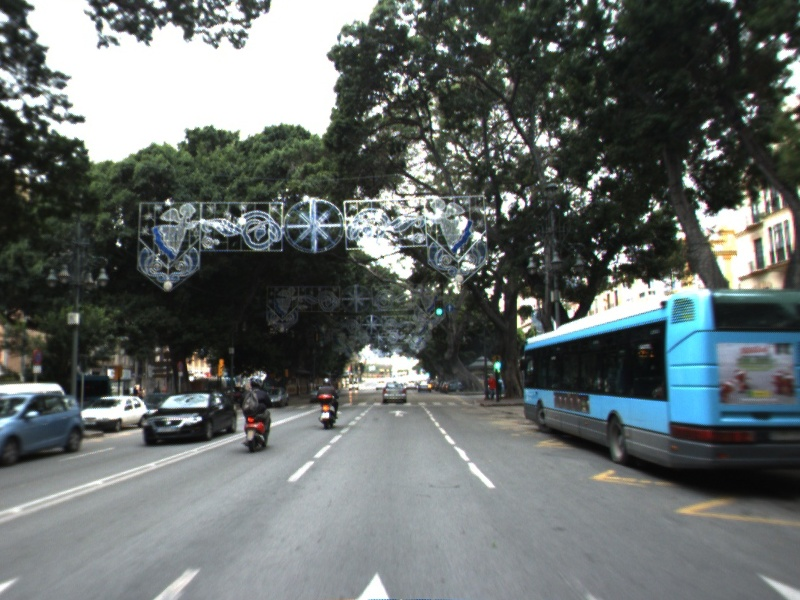STRAIGHT: (386, 408, 411, 419)
